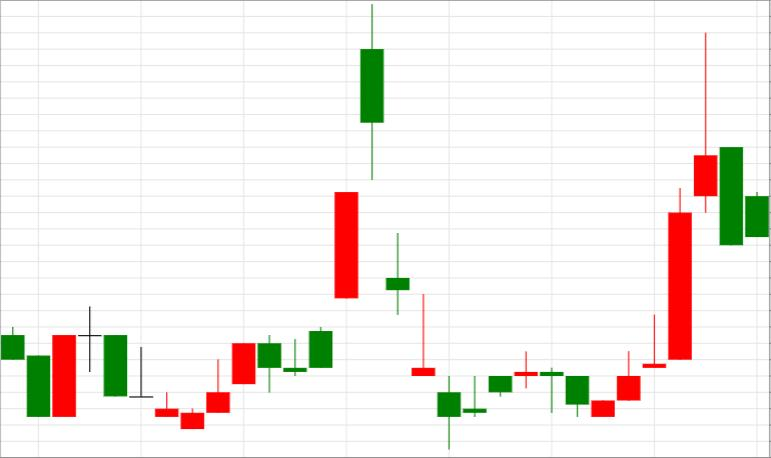shooting_star_fall: (591, 32, 718, 418)
